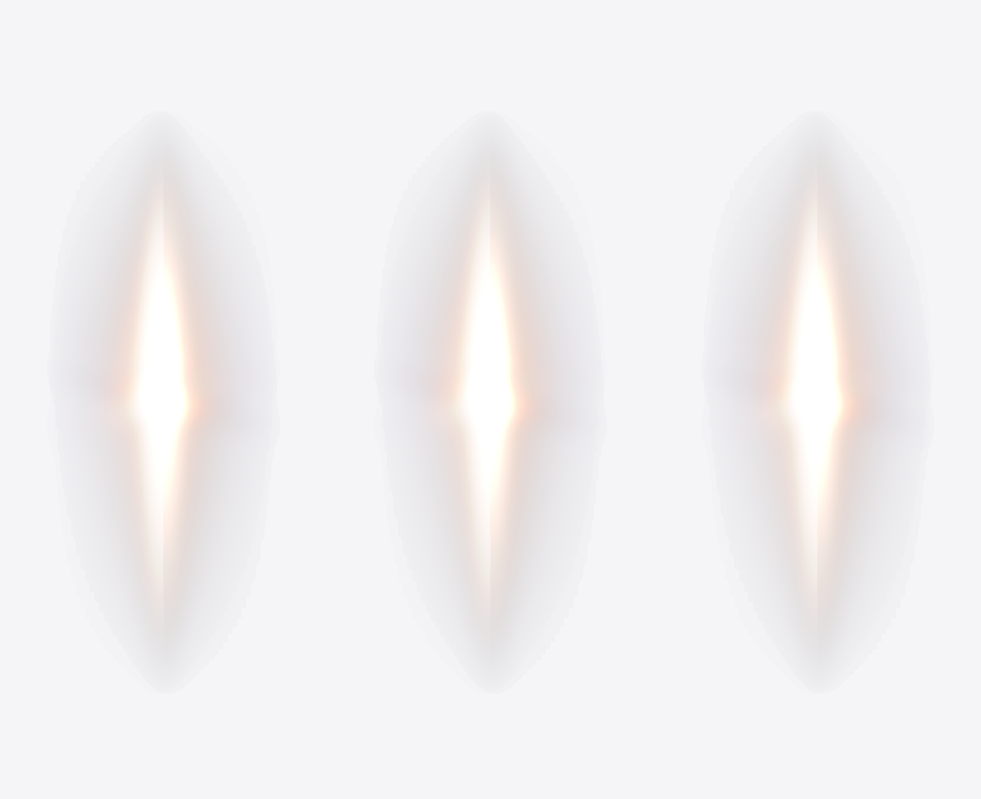
Rendered from echo_column.glb.
3 renders of one model, left to right at view 1: azimuth 30°, elevation 25°; view 2: azimuth 150°, elevation 25°; view 3: azimuth 270°, elevation 25°, orthographic.
Visible parts, largest first — view 1: Echo_Column; view 2: Echo_Column; view 3: Echo_Column.
Part boxes in pixels (left/top/right/bottom): Echo_Column: left=65, top=131, right=261, bottom=672; Echo_Column: left=392, top=131, right=588, bottom=672; Echo_Column: left=719, top=131, right=915, bottom=672.
Bounding box in the file's own units: 1 × 2 × 0.866.
1 material, 1 textured.
